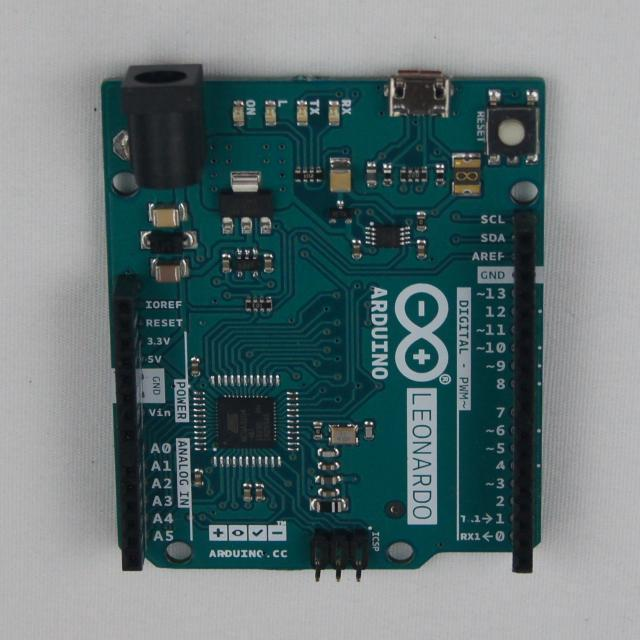Arduino-leonardo: (102, 64, 545, 581)
